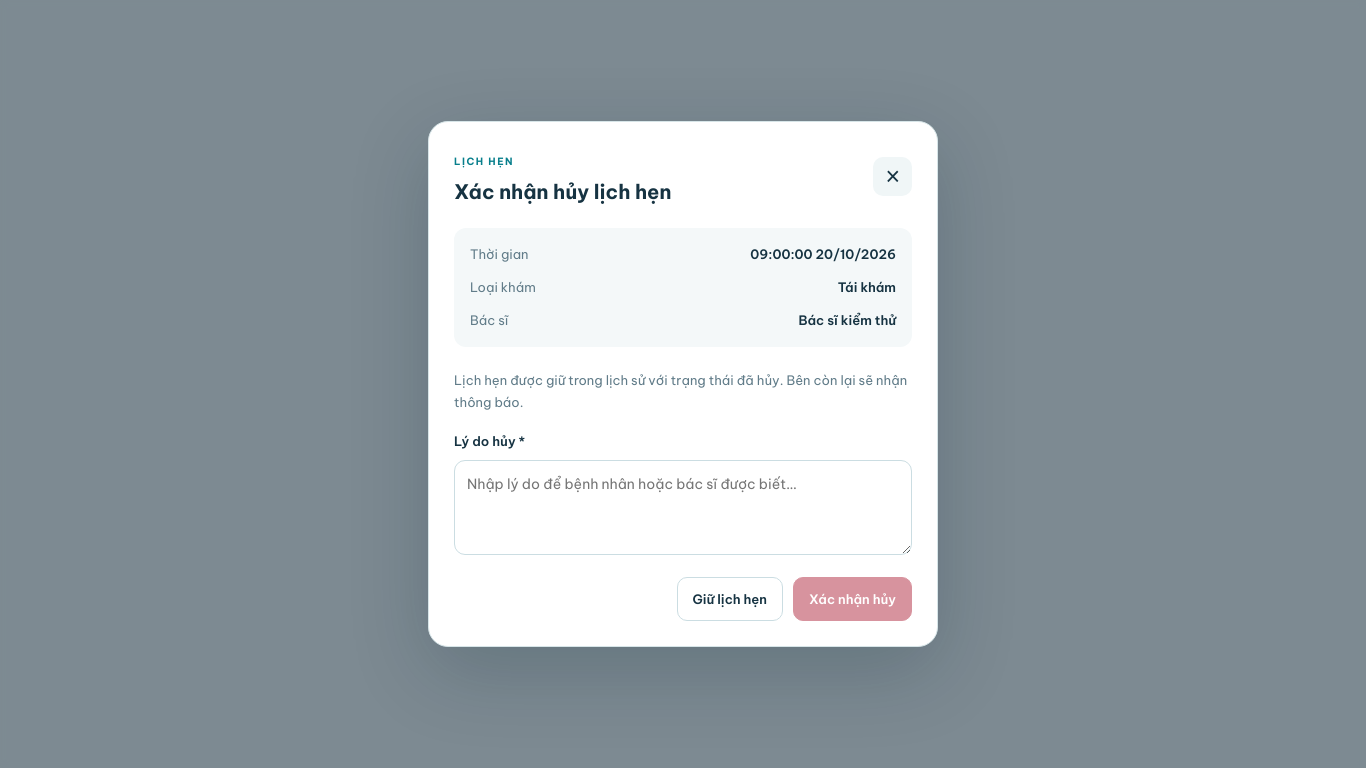
an incomplete API response cannot fabricate a successful cancellation
The width and height of the screenshot is (1366, 768).
Type "Lý do kiểm thử" into the text box labelled "Lý do hủy *" at (683, 507), box [454, 460, 912, 555]
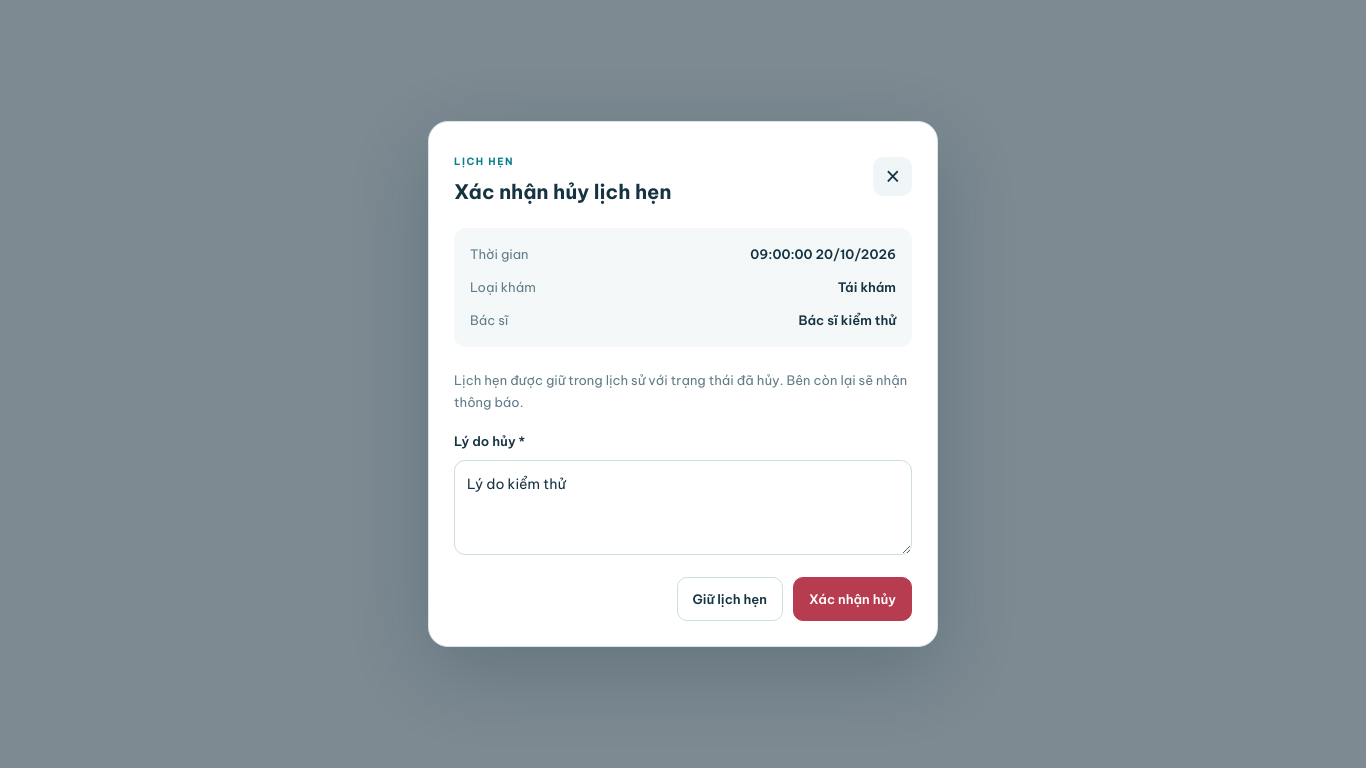
Click the button "Xác nhận hủy" at (852, 599), box [793, 577, 912, 621]
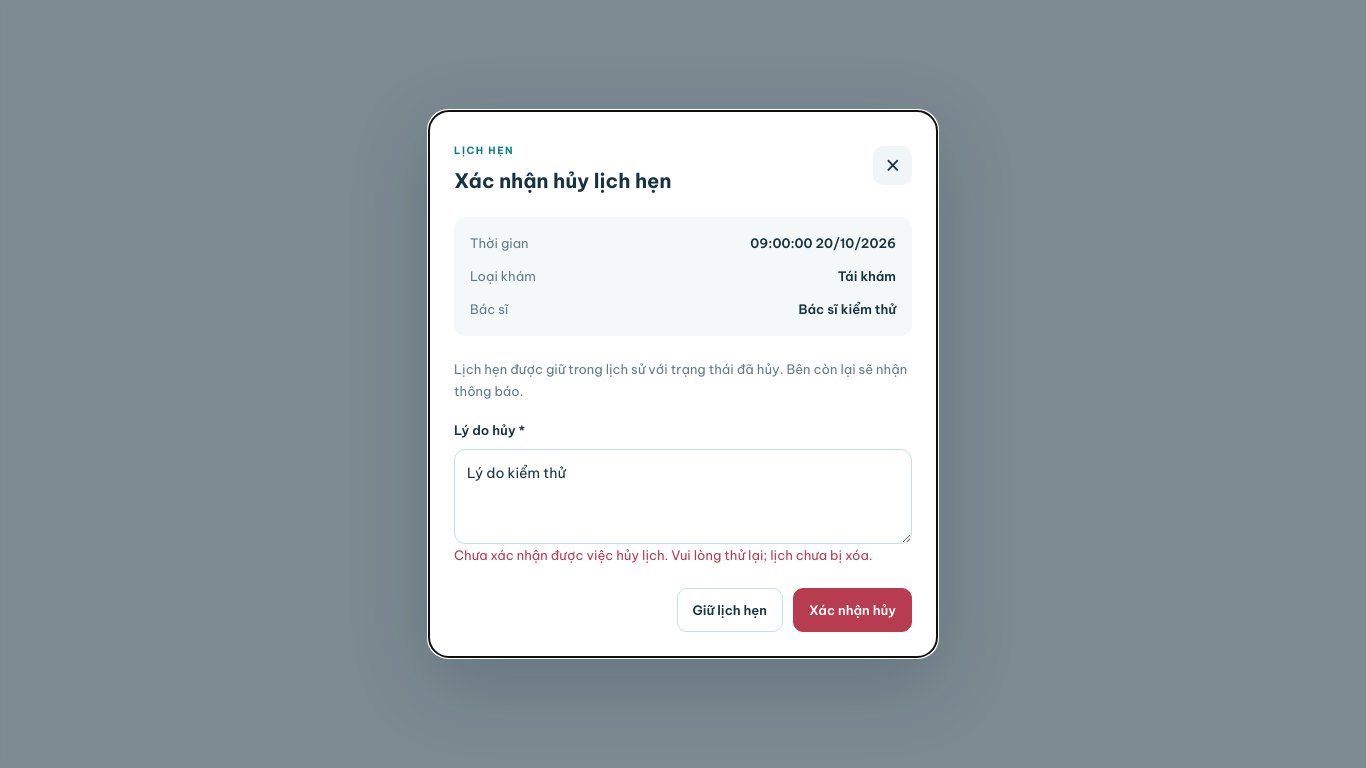
Expected: the message "Chưa xác nhận được việc hủy lịch. Vui lòng thử lại; lịch chưa bị xóa." is shown, [454, 544, 912, 566]
